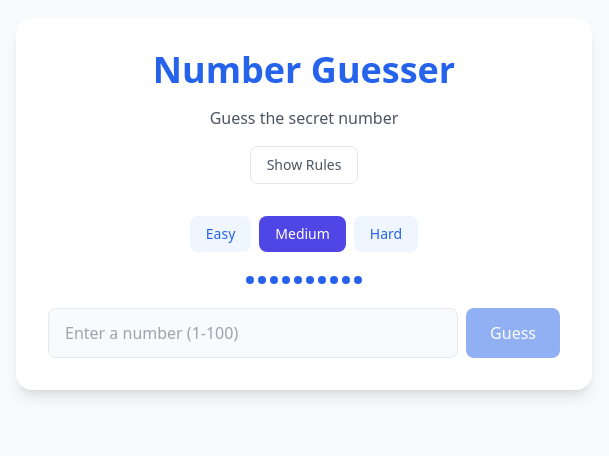
Test case: NumberGuesser › should handle incorrect guess
The image size is (609, 456).
Type "25" into the number field named "Number input".
click(253, 333); type("25")  # box [48,308,458,358]
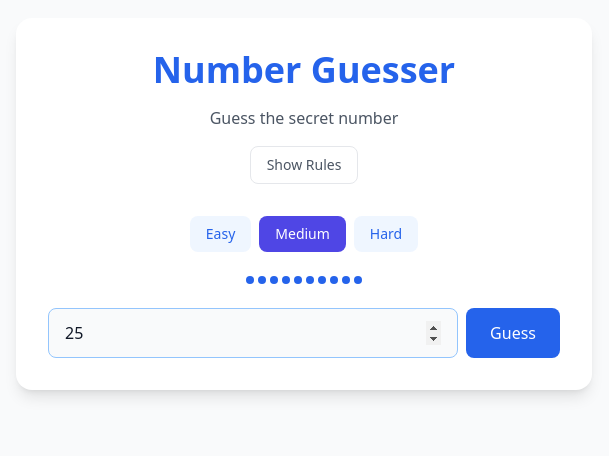
Click the button "Guess".
click(513, 333)  # box [466,308,560,358]
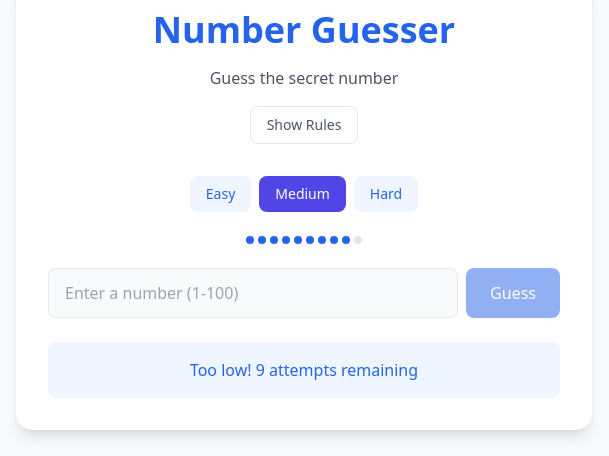
Expected: the text "Too low! 9 attempts remaining" is shown, [48,342,560,398]
